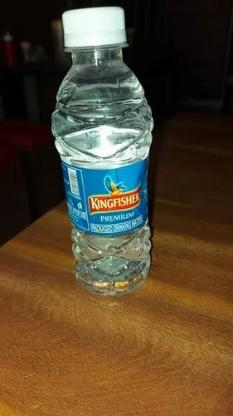Plastic Bottle: (51, 5, 154, 295)
